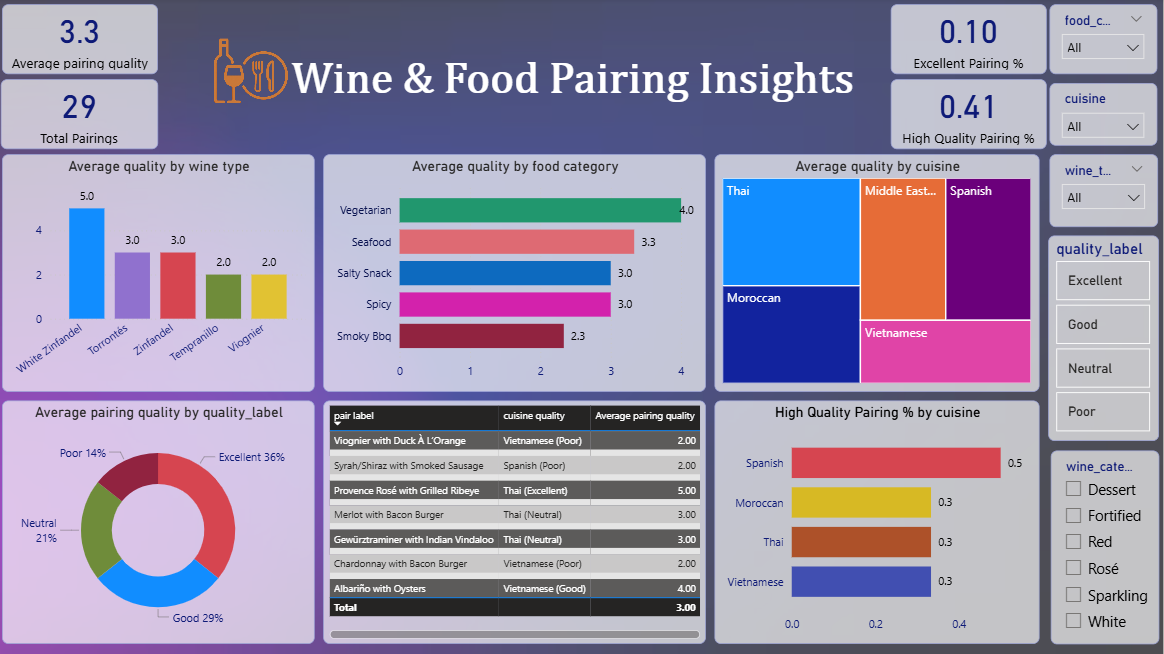

What the dashboard file says about the page in this screenshot:
{"tool":"powerbi","page":{"name":"Page 1","canvas":[1280,720],"ordinal":0},"visuals":[{"type":"card","fields":{"Values":["wine_food_pairings.Average pairing quality"]},"box":[5.5,6.9,171.5,76.8],"z":0},{"type":"card","fields":{"Values":["wine_food_pairings.Total Pairings"]},"box":[4.1,89.2,172.9,76.8],"z":1000},{"type":"card","fields":{"Values":["wine_food_pairings.% of Excellent pairing"]},"box":[981.1,6.9,171.5,76.8],"z":2000},{"type":"card","fields":{"Values":["wine_food_pairings.High quality pairing %"]},"box":[981.1,89.2,171.5,76.8],"z":3000},{"type":"treemap","title":"Average quality by cuisine ","fields":{"Values":["wine_food_pairings.Average quality by cuisine"],"Group":["wine_food_pairings.cuisine"]},"box":[787.7,171.5,356.8,260.7],"z":4000},{"type":"barChart","title":"Average quality by food category ","fields":{"Y":["wine_food_pairings.Average quality by food category"],"Category":["wine_food_pairings.food_category"]},"box":[358.1,171.5,419.9,260.7],"z":5000},{"type":"columnChart","title":"Average quality by wine type ","fields":{"Category":["wine_food_pairings.wine_type"],"Y":["wine_food_pairings.Average qualtiy by wine type"]},"box":[5.5,171.5,343.1,260.7],"z":6000},{"type":"donutChart","fields":{"Y":["wine_food_pairings.Average pairing quality"],"Category":["wine_food_pairings.quality_label"]},"box":[5.5,441.9,343.1,267.6],"z":7000},{"type":"tableEx","fields":{"Values":["wine_food_pairings.pair label","wine_food_pairings.cuisine quality","wine_food_pairings.Average pairing quality"]},"box":[358.1,441.9,419.9,267.6],"z":8000},{"type":"barChart","fields":{"Category":["wine_food_pairings.cuisine"],"Y":["wine_food_pairings.High quality pairing %"]},"box":[787.7,441.9,356.8,267.6],"z":10000},{"type":"slicer","fields":{"Values":["wine_food_pairings.wine_type"]},"box":[1155.8,171.4,118.9,80.2],"z":11000},{"type":"advancedSlicerVisual","fields":{"Values":["wine_food_pairings.quality_label"]},"box":[1154.5,261.3,121.7,225.4],"z":12000},{"type":"slicer","fields":{"Values":["wine_food_pairings.cuisine"]},"box":[1155.4,93.3,118,68.6],"z":13000},{"type":"slicer","fields":{"Values":["wine_food_pairings.food_category"]},"box":[1155.4,6.9,118,76.8],"z":14000},{"type":"slicer","fields":{"Values":["wine_food_pairings.wine_category"]},"box":[1157.2,496.4,118.9,212.9],"z":15000},{"type":"textbox","box":[177,57.6,909.8,71.4],"z":16000},{"type":"image","box":[220.9,39.8,115.3,82.3],"z":17000}]}

Visuals, with their boxes in screenshot pixels (x1, y1, x2, y2), scaled from the page's 1280x720 canvas onto the 1164x654 screenshot:
card - wine_food_pairings.Average pairing quality: BBox(5, 6, 161, 76)
card - wine_food_pairings.Total Pairings: BBox(4, 81, 161, 151)
card - wine_food_pairings.% of Excellent pairing: BBox(892, 6, 1048, 76)
card - wine_food_pairings.High quality pairing %: BBox(892, 81, 1048, 151)
"Average quality by cuisine " treemap: BBox(716, 156, 1041, 393)
"Average quality by food category " barChart: BBox(326, 156, 707, 393)
"Average quality by wine type " columnChart: BBox(5, 156, 317, 393)
donutChart - wine_food_pairings.Average pairing quality x wine_food_pairings.quality_label: BBox(5, 401, 317, 644)
tableEx - wine_food_pairings.pair label x wine_food_pairings.cuisine quality: BBox(326, 401, 707, 644)
barChart - wine_food_pairings.cuisine x wine_food_pairings.High quality pairing %: BBox(716, 401, 1041, 644)
slicer - wine_food_pairings.wine_type: BBox(1051, 156, 1159, 229)
advancedSlicerVisual - wine_food_pairings.quality_label: BBox(1050, 237, 1161, 442)
slicer - wine_food_pairings.cuisine: BBox(1051, 85, 1158, 147)
slicer - wine_food_pairings.food_category: BBox(1051, 6, 1158, 76)
slicer - wine_food_pairings.wine_category: BBox(1052, 451, 1160, 644)
textbox: BBox(161, 52, 988, 117)
image: BBox(201, 36, 306, 111)
